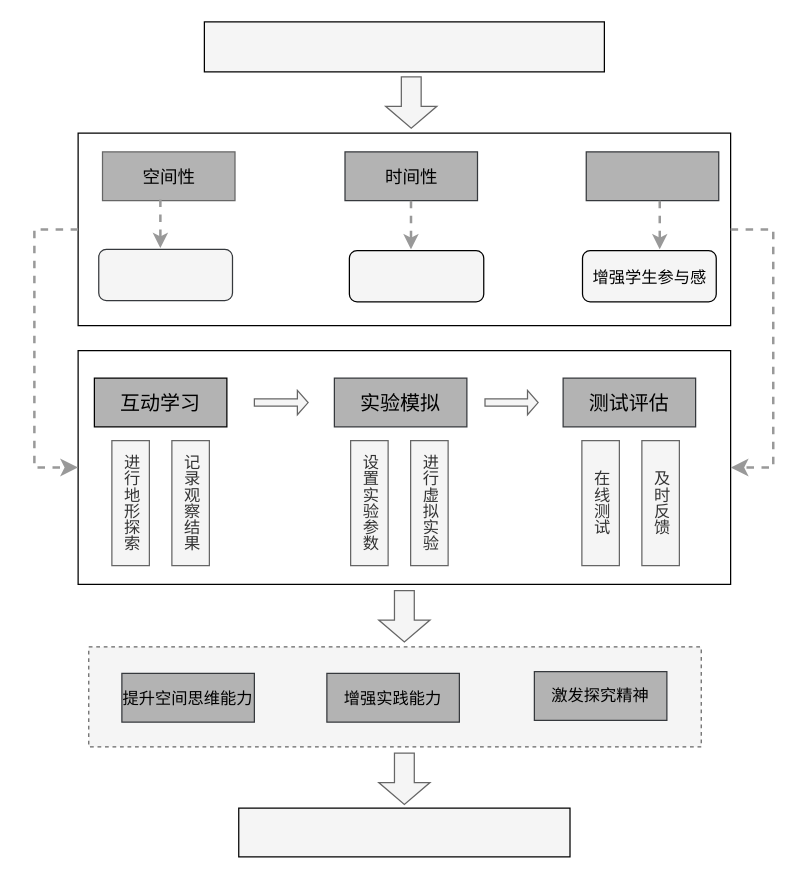
The diagram is 809 pixels wide and 879 high, and some of its shapes have lost their labels. The shapes that lost their labels are listed below. From the top down, each one's centre as x and y in pixels, then its label:
(403,46): 高中地理教学系统
(652,176): 互动性
(165,274): 自由探索地理空间
(416,275): 模拟动态地理现象
(404,832): 综合素养提升
